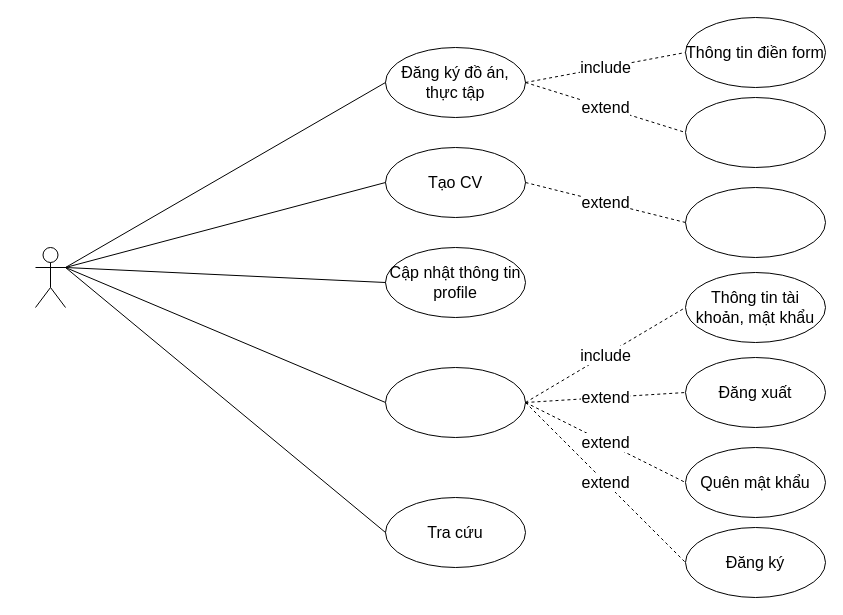
Image size: 843x615. Some labels were removed from this diagram. Here are the shapes that lost their labels. From the top down, the centre of each, then its label:
At point (755, 132): "Huỷ đăng ký".
At point (755, 222): "Xoá CV".
At point (50, 277): "Sinh viên".
At point (455, 402): "Đăng nhập".
